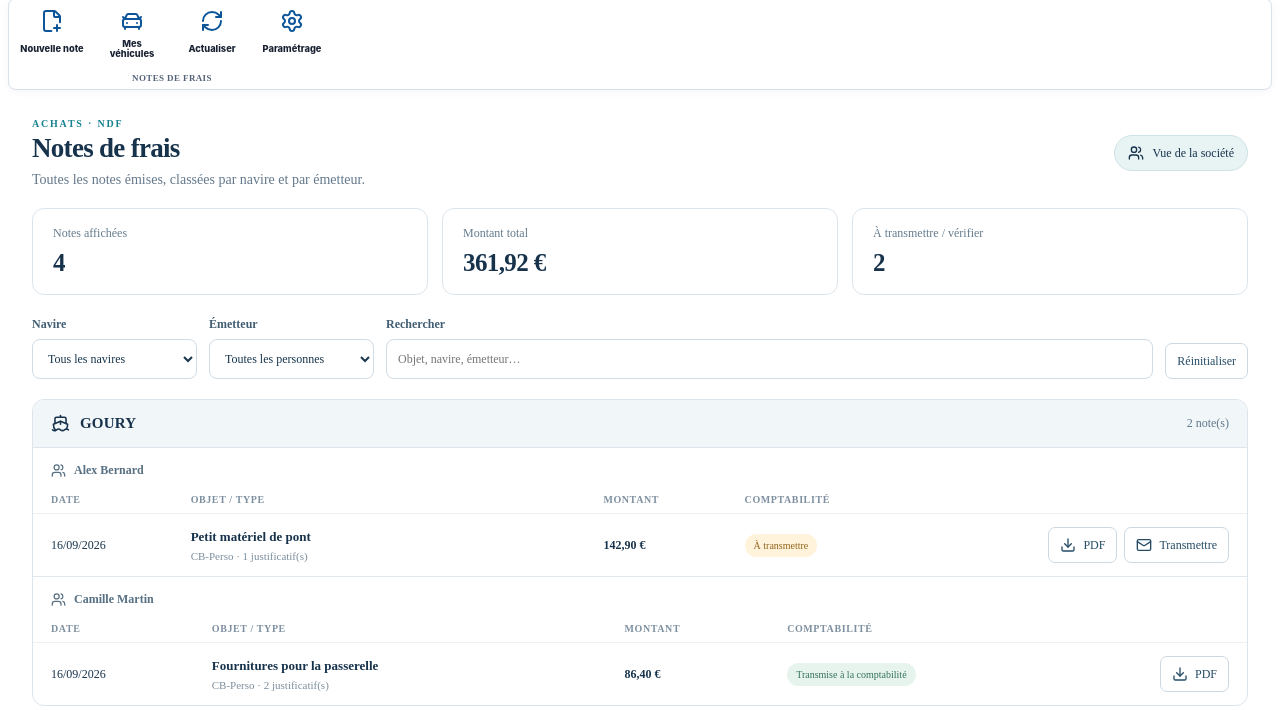
it: NDF profile fixtures › admin combines vessel and issuer filters and resets them
Expected: the text "Petit matériel de pont" is shown, [191, 528, 311, 544]
Select "GOURY" in the dropdown labelled "Navire" at (114, 359), box [32, 339, 197, 379]
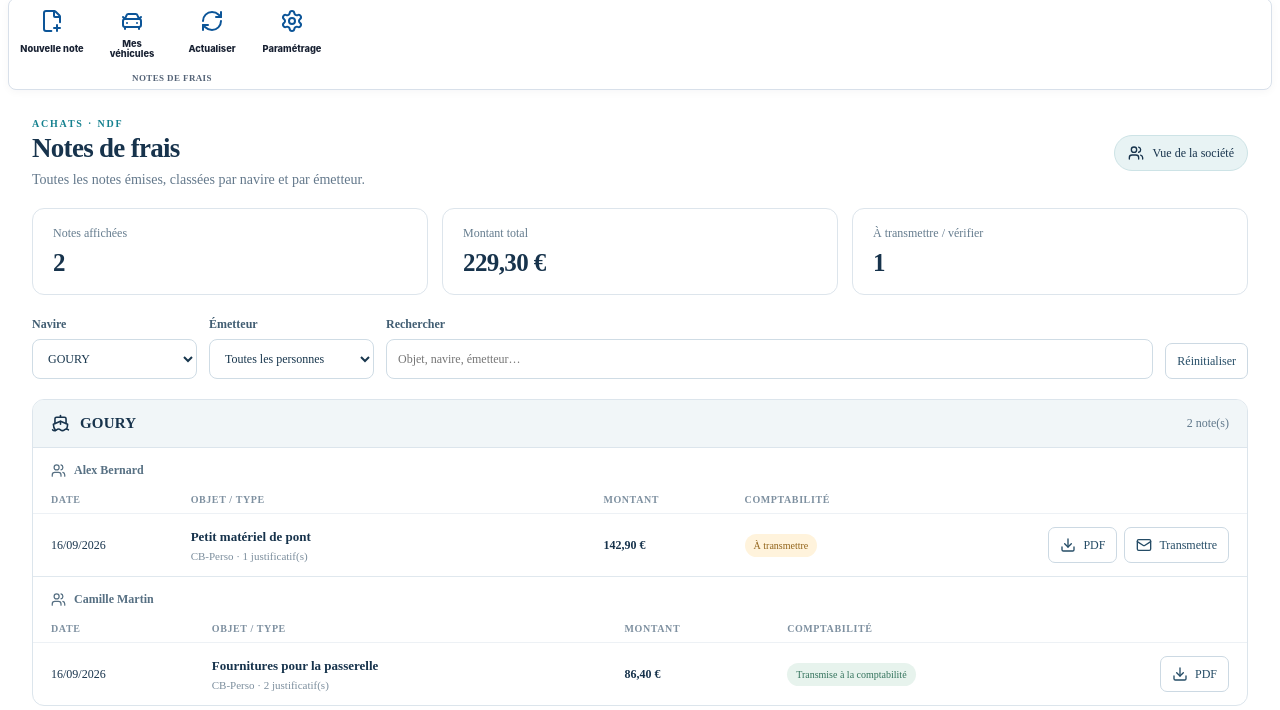
Select "Alex Bernard" in the dropdown labelled "Émetteur" at (292, 359), box [209, 339, 374, 379]
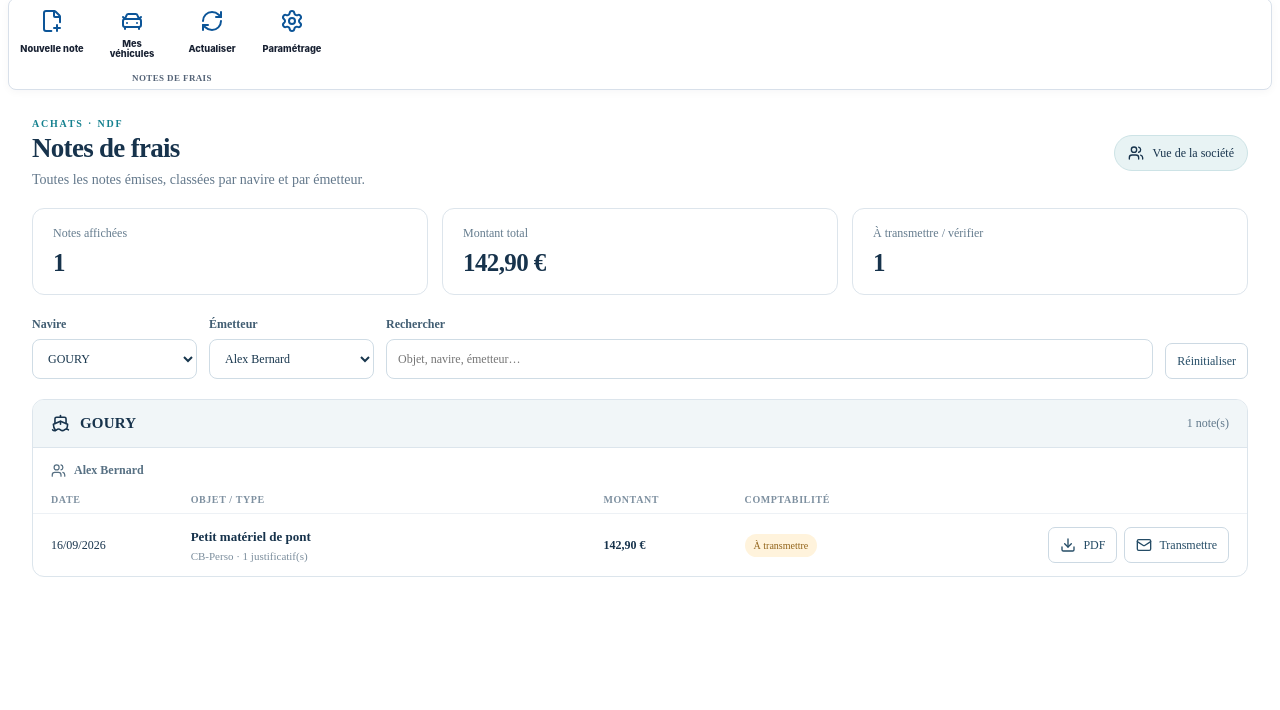
Expected: the text "Petit matériel de pont" is shown, [191, 528, 311, 544]
Now the text "Fournitures pour la passerelle" is gone
Click the button "Réinitialiser" at (1207, 361), box [1165, 343, 1248, 379]
(page scrolled)
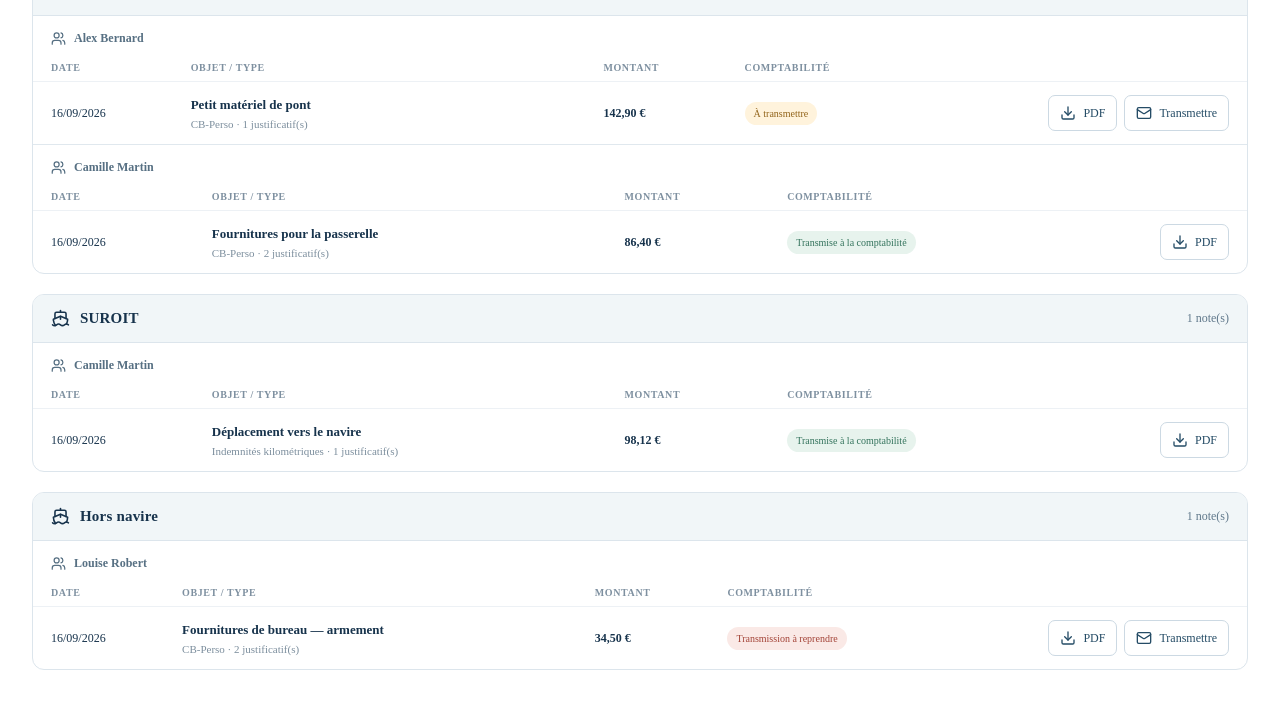
Now the text "Fournitures de bureau — armement" is shown, box [182, 622, 384, 636]
